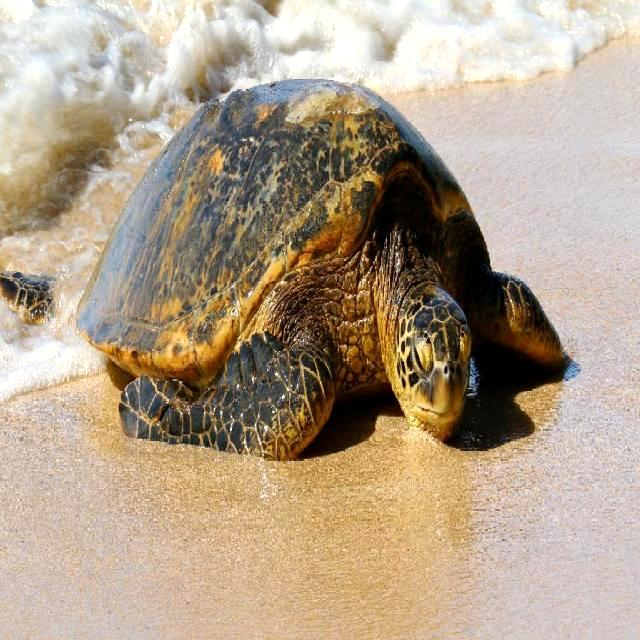Sea turtle: (71, 73, 568, 454), (0, 266, 59, 324)
